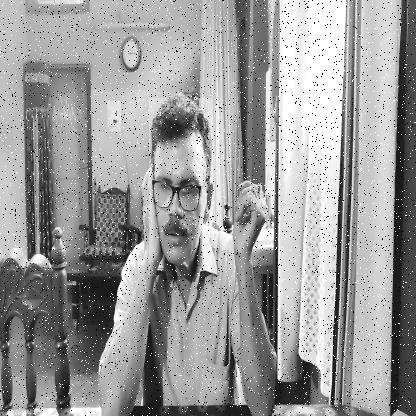Normal: (149, 99, 212, 276)
